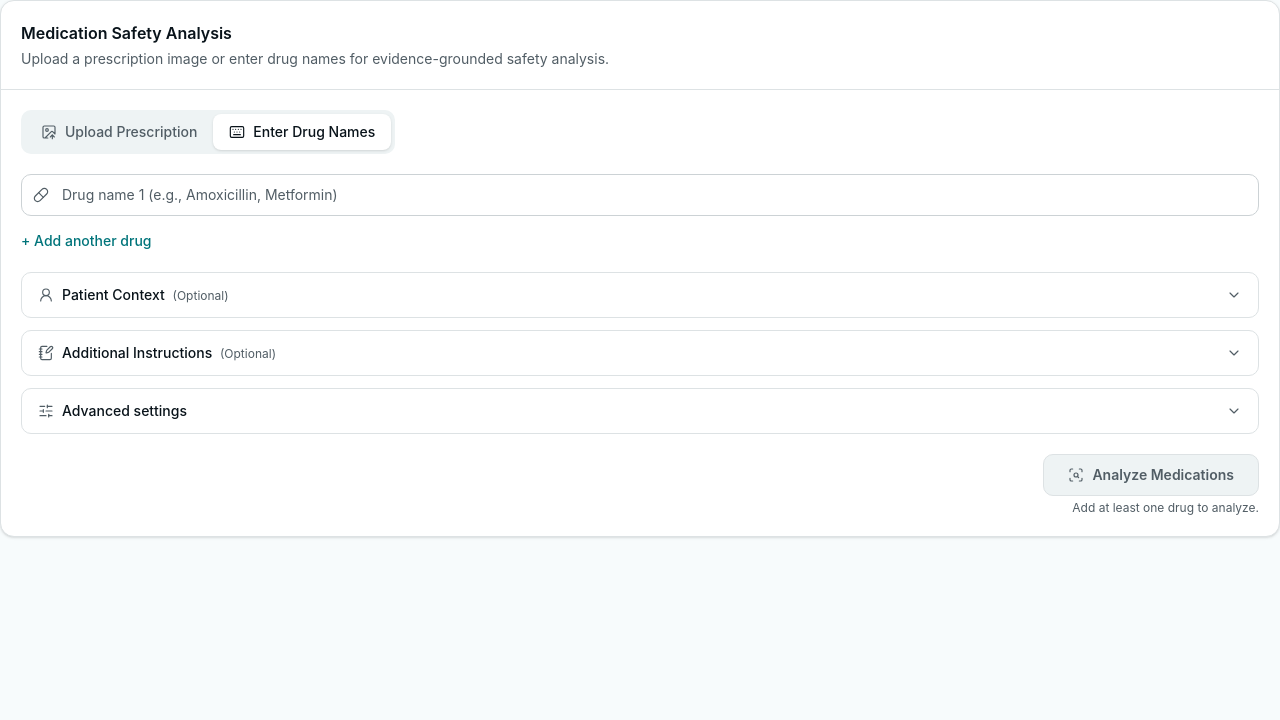
Scenario: WorkspacePage Model Selector & Catalog Error Handling › TEST 3: Model selector is collapsed under Advanced settings by default
Expected: the dropdown labelled "Answer-generation model" is not shown
Click the button "Advanced settings". click: (124, 410)
box: [22,389,1258,433]
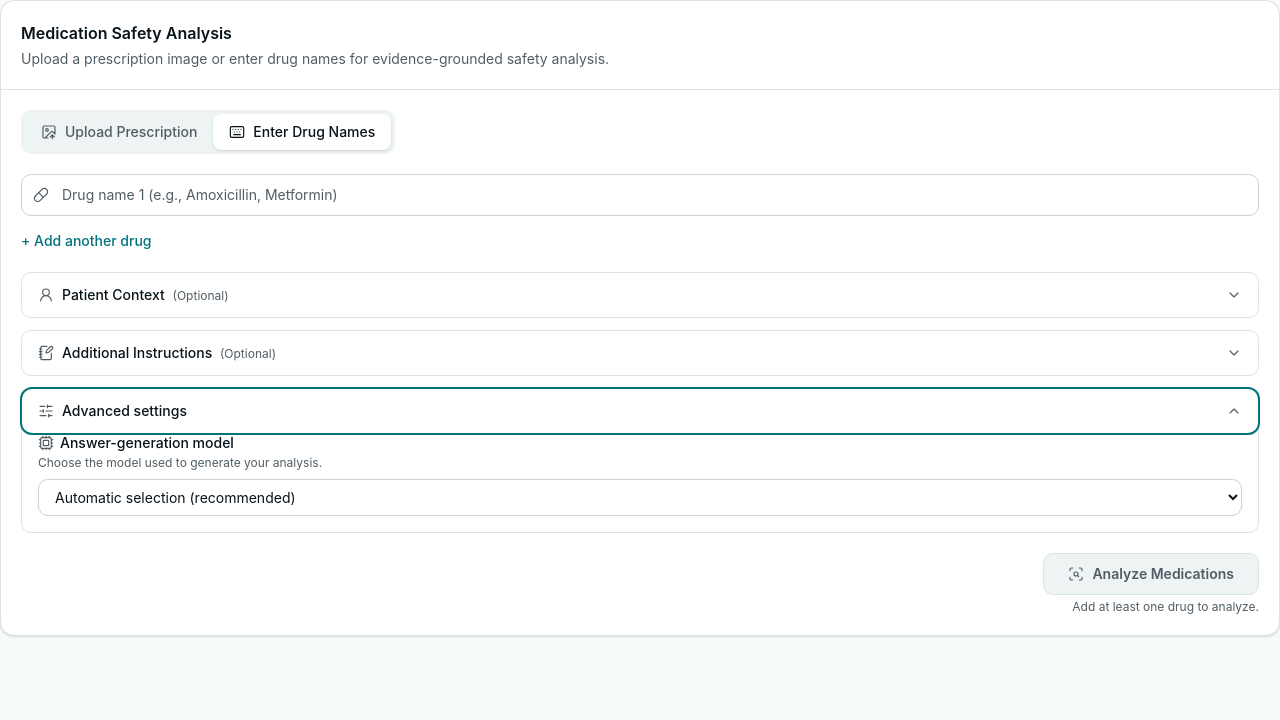
Expected: the button "Advanced settings" is expanded, [22,389,1258,433]
Expected: the dropdown labelled "Answer-generation model" shows "Automatic selection (recommended)", [38,479,1242,516]
